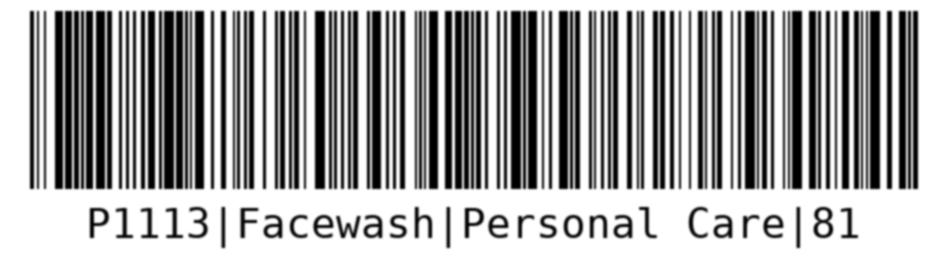milk: (22, 4, 926, 268)
